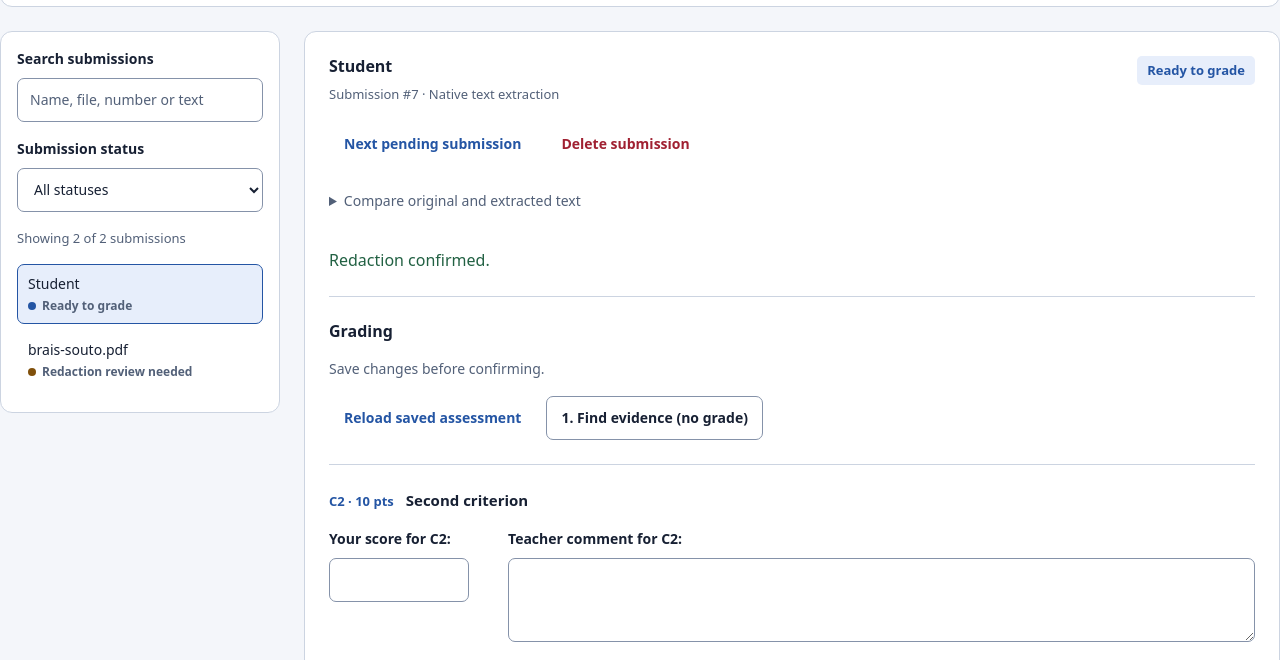
Scenario: selects a submission from the list and suggests its student from the file name
(page scrolled)
Click the button "brais-souto.pdf Redaction review needed".
click(140, 360)  # box [17,330,263,390]
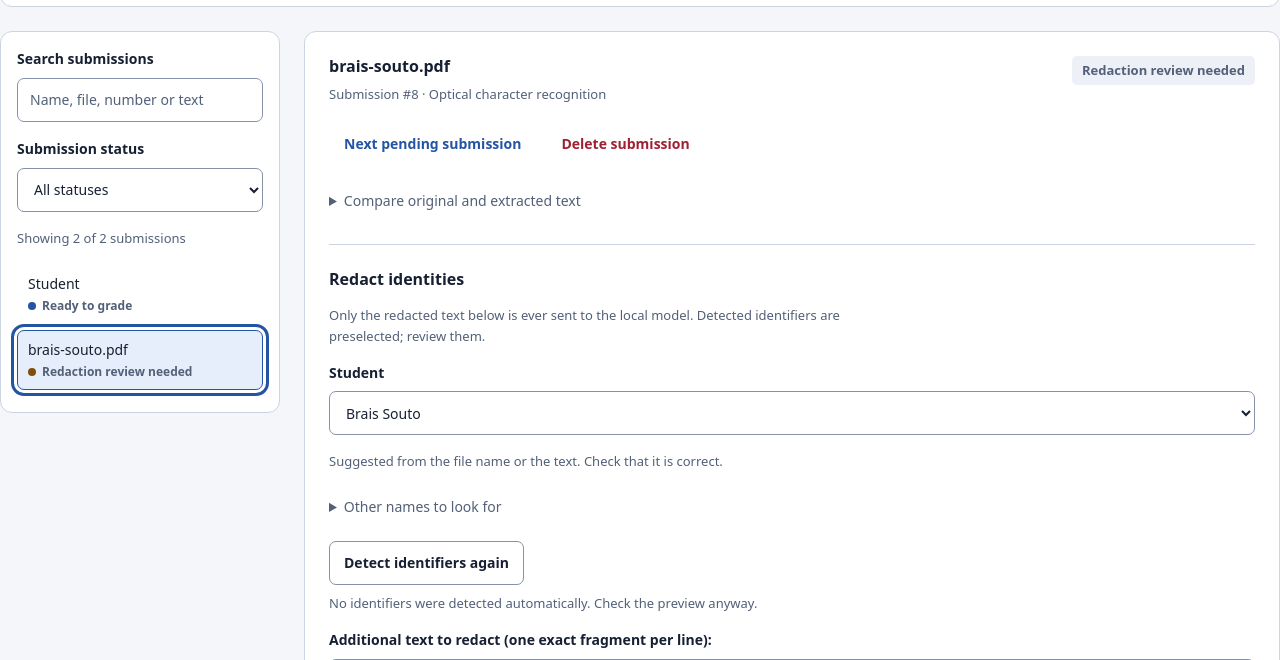
Expected: the heading "brais-souto.pdf" is shown, [329,55,450,77]
Expected: the dropdown labelled "Student" shows "Brais Souto", [329,391,1255,435]
Expected: the text "Suggested from the file name or the text. Check that it is correct." is shown, [329,452,723,470]
